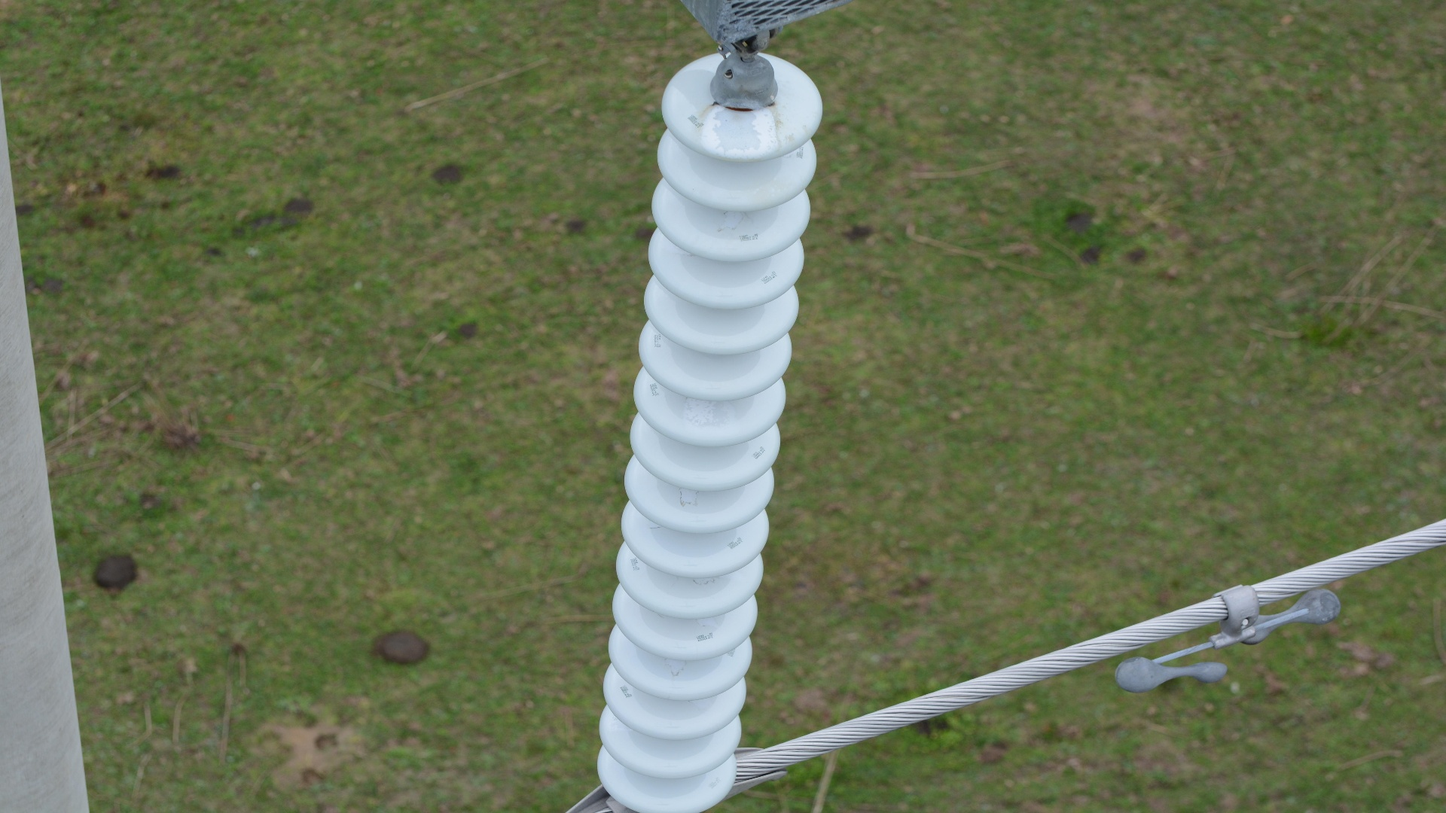damper: (1110, 577, 1347, 698)
